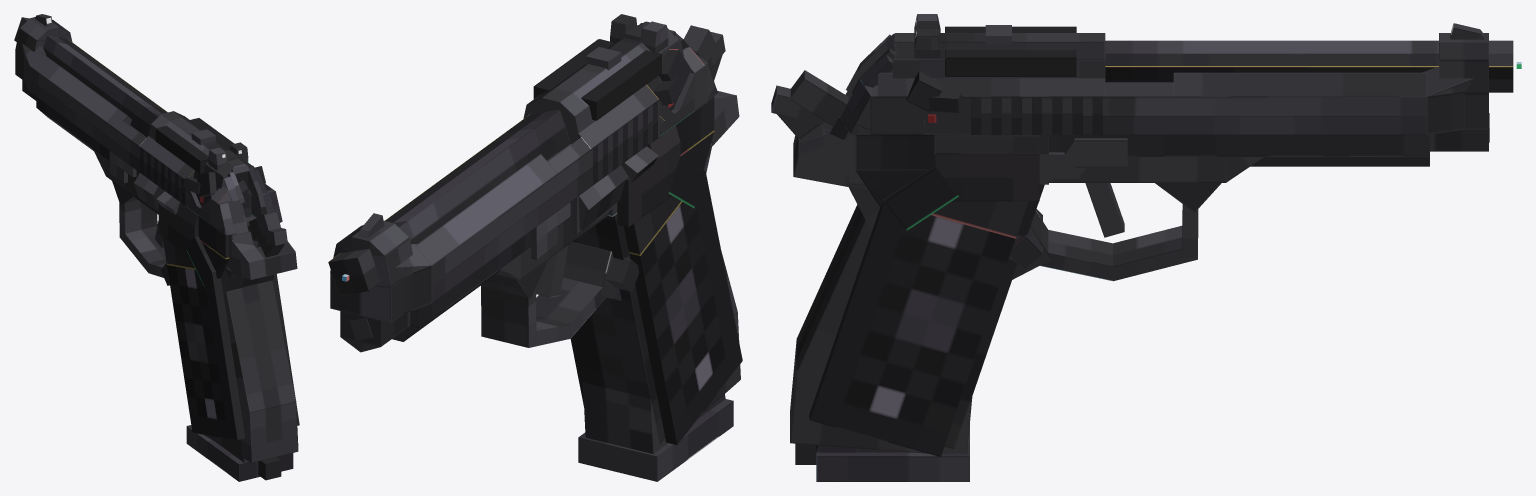
The picture shows the model from 3 angles, left to right: view 1: azimuth 30°, elevation 25°; view 2: azimuth 150°, elevation 25°; view 3: azimuth 270°, elevation 25°; orthographic projection. The views are drawn at different scales.
Visible parts, largest first — view 1: gun, slide, magazine, sightmount, hammer, _cb_stock; view 2: gun, slide, magazine, sightmount, hammer, _cb_scope; view 3: gun, slide, magazine, sightmount, hammer.
Part boxes in pixels (x1,y1,x2,y2): gun: [14, 17, 299, 462]; slide: [15, 14, 282, 235]; magazine: [186, 425, 293, 481]; sightmount: [155, 118, 234, 173]; hammer: [247, 211, 287, 257]; _cb_stock: [258, 457, 281, 480]; gun: [328, 91, 742, 453]; slide: [330, 14, 717, 352]; magazine: [578, 394, 733, 481]; sightmount: [533, 39, 661, 120]; hammer: [683, 25, 725, 80]; _cb_scope: [586, 47, 621, 70]; gun: [790, 40, 1513, 456]; slide: [844, 14, 1488, 151]; magazine: [816, 424, 969, 481]; sightmount: [945, 26, 1076, 76]; hammer: [771, 70, 849, 139].
Bounding box in the file's own units: 28.52 × 115 × 179.
